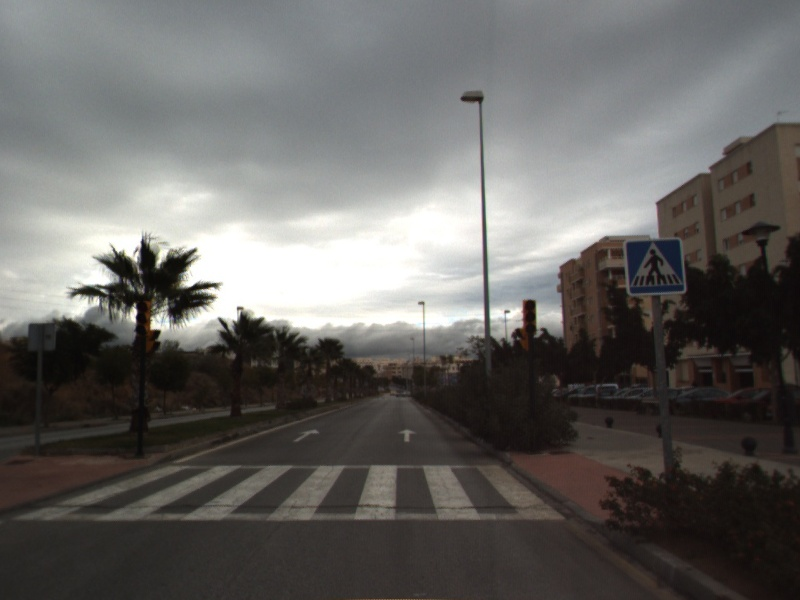STRAIGHT: (292, 427, 321, 444), (396, 427, 419, 444)
